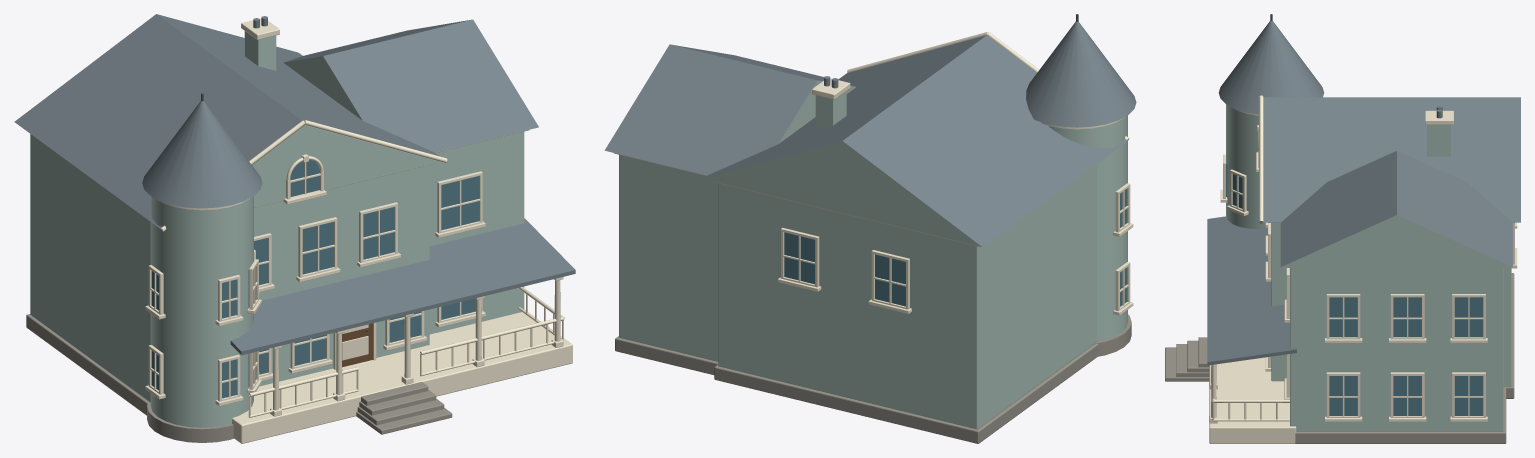
Rendered from large_queen_anne.glb.
The picture shows the model from 3 angles, left to right: view 1: azimuth 30°, elevation 25°; view 2: azimuth 150°, elevation 25°; view 3: azimuth 270°, elevation 25°; orthographic projection. The views are drawn at different scales.
Visible parts, largest first — view 1: Tall front gable solid gabled roof, Victorian main block closed exterior walls, Intersecting side gable solid gabled roof, Queen Anne corner turret round tower, Closed sloping porch roof, Wraparound porch deck, Queen Anne corner turret conical roof, Victorian cross wing closed exterior walls, Victorian main block closed foundation, Cross-wing front sash glazing.001, Queen Anne corner turret round foundation, Main Victorian sash glazing.004 (+12 smaller); view 2: Victorian main block closed exterior walls, Tall front gable solid gabled roof, Intersecting side gable solid gabled roof, Victorian cross wing closed exterior walls, Queen Anne corner turret conical roof, Victorian main block closed foundation, Queen Anne corner turret round tower, Victorian cross wing closed foundation, Rear upper Victorian sash glazing.001, Rear upper Victorian sash glazing, Victorian chimney brick shaft, Queen Anne corner turret round foundation (+1 smaller); view 3: Victorian cross wing closed exterior walls, Tall front gable solid gabled roof, Intersecting side gable solid gabled roof, Closed sloping porch roof, Wraparound porch deck, Queen Anne corner turret conical roof, Queen Anne corner turret round tower, Victorian cross wing closed foundation, Victorian main block closed exterior walls, Cross-wing side sash glazing.005, Cross-wing side sash glazing.002, Cross-wing side sash glazing.003 (+10 smaller).
Boxes of the visible parts, left/top/right/bottom form: Tall front gable solid gabled roof: left=14, top=14, right=439, bottom=229; Victorian main block closed exterior walls: left=30, top=134, right=429, bottom=402; Intersecting side gable solid gabled roof: left=284, top=19, right=538, bottom=152; Queen Anne corner turret round tower: left=150, top=196, right=253, bottom=427; Closed sloping porch roof: left=230, top=218, right=575, bottom=355; Wraparound porch deck: left=232, top=309, right=572, bottom=443; Queen Anne corner turret conical roof: left=142, top=101, right=262, bottom=208; Victorian cross wing closed exterior walls: left=429, top=131, right=524, bottom=334; Victorian main block closed foundation: left=26, top=314, right=148, bottom=415; Cross-wing front sash glazing.001: left=441, top=176, right=479, bottom=230; Queen Anne corner turret round foundation: left=147, top=401, right=233, bottom=442; Main Victorian sash glazing.004: left=302, top=222, right=333, bottom=274; Victorian main block closed exterior walls: left=718, top=164, right=1096, bottom=429; Tall front gable solid gabled roof: left=703, top=35, right=1127, bottom=247; Intersecting side gable solid gabled roof: left=604, top=44, right=855, bottom=175; Victorian cross wing closed exterior walls: left=619, top=155, right=718, bottom=361; Queen Anne corner turret conical roof: left=1026, top=21, right=1136, bottom=127; Victorian main block closed foundation: left=714, top=344, right=1098, bottom=443; Queen Anne corner turret round tower: left=1049, top=115, right=1127, bottom=341; Victorian cross wing closed foundation: left=615, top=336, right=718, bottom=374; Rear upper Victorian sash glazing.001: left=784, top=232, right=814, bottom=284; Rear upper Victorian sash glazing: left=875, top=254, right=905, bottom=306; Victorian chimney brick shaft: left=815, top=91, right=846, bottom=129; Queen Anne corner turret round foundation: left=1094, top=314, right=1131, bottom=356; Victorian cross wing closed exterior walls: left=1290, top=268, right=1503, bottom=431; Tall front gable solid gabled roof: left=1262, top=97, right=1520, bottom=222; Intersecting side gable solid gabled roof: left=1280, top=151, right=1512, bottom=267; Closed sloping porch roof: left=1207, top=216, right=1296, bottom=365; Wraparound porch deck: left=1209, top=357, right=1296, bottom=443; Queen Anne corner turret conical roof: left=1218, top=21, right=1324, bottom=114; Queen Anne corner turret round tower: left=1226, top=104, right=1267, bottom=228; Victorian cross wing closed foundation: left=1291, top=386, right=1506, bottom=443; Victorian main block closed exterior walls: left=1271, top=223, right=1511, bottom=386; Cross-wing side sash glazing.005: left=1454, top=297, right=1483, bottom=337; Cross-wing side sash glazing.002: left=1454, top=376, right=1483, bottom=415; Cross-wing side sash glazing.003: left=1329, top=297, right=1357, bottom=337.
Bounding box in the file's own units: 14.98 × 11.83 × 13.34.
